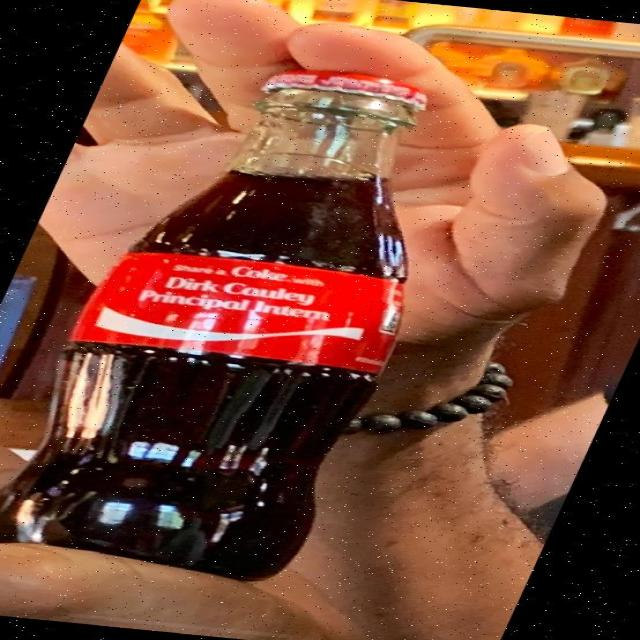coca-cola: (0, 50, 534, 594)
